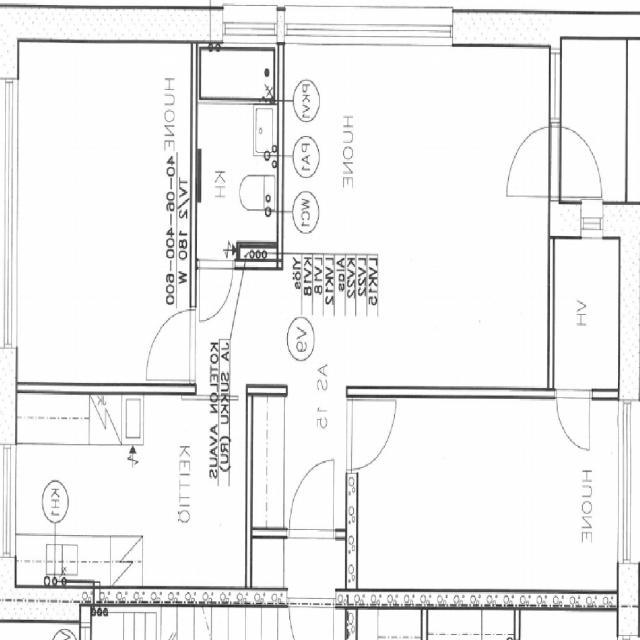door: (505, 126, 562, 197), (549, 126, 606, 197), (348, 400, 400, 469), (290, 458, 334, 538), (147, 310, 197, 380), (557, 383, 590, 446), (200, 258, 233, 321)
